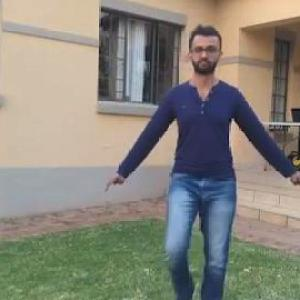land: (93, 19, 300, 299)
